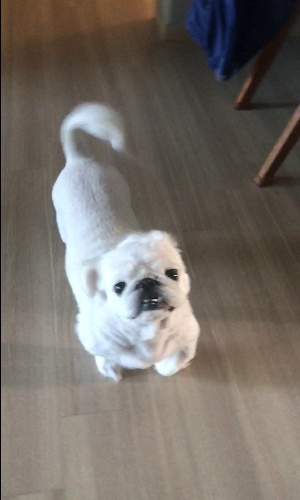ddubi: (48, 97, 205, 386)
